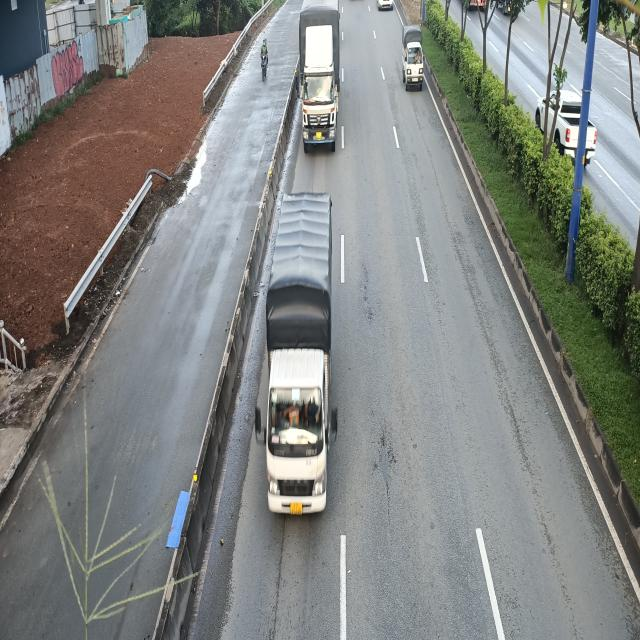truck: (254, 195, 338, 521), (301, 1, 344, 152), (402, 23, 428, 91)
